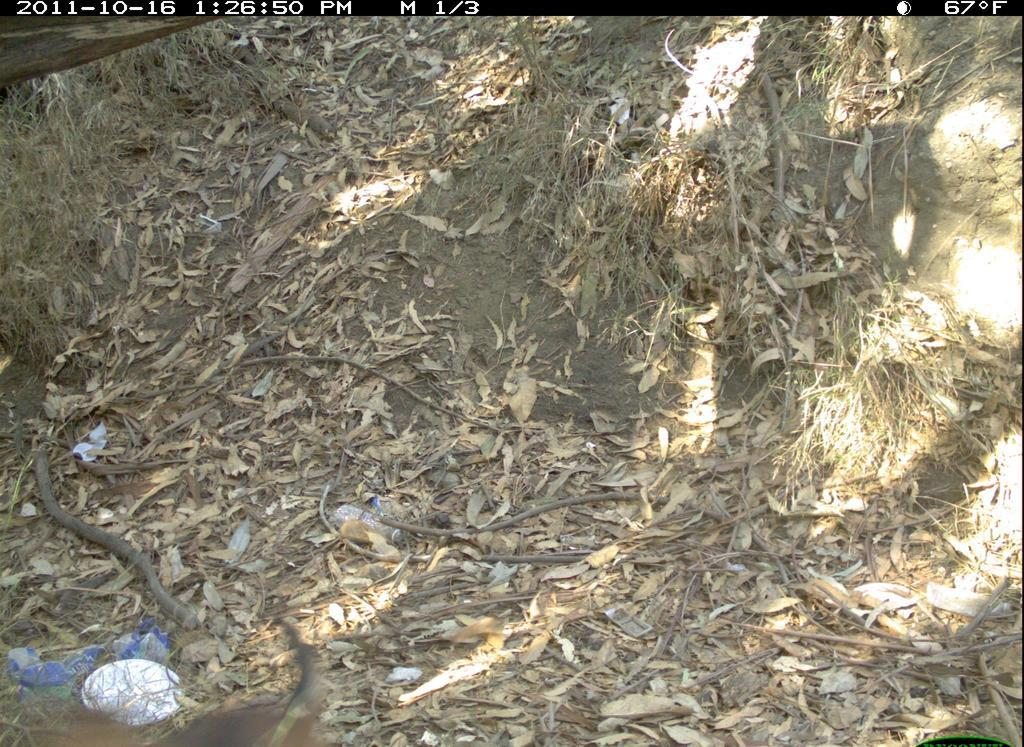dog: (6, 617, 353, 747)
